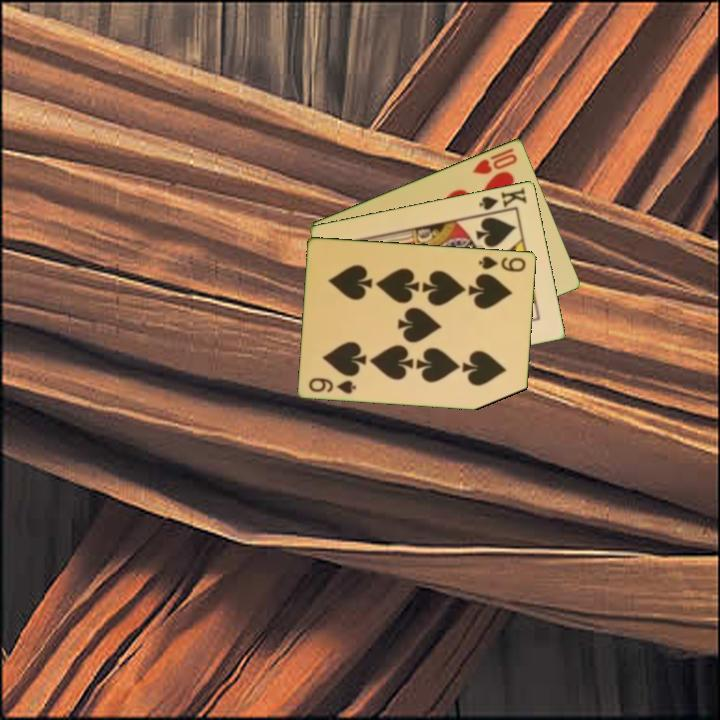10h: (469, 144, 520, 177)
9s: (475, 252, 529, 275), (305, 374, 359, 396)
Ks: (476, 183, 530, 217)
